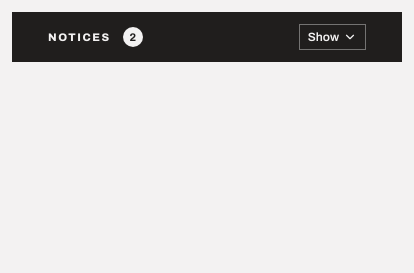
SpecialtyNoticeBoard on a phone › folds the notices behind a bar with a count, and opens and closes it
Later steps or results of the test are not shown.
Click the button "Notices 2 Show": (79, 37) x1=12 y1=12 x2=402 y2=62
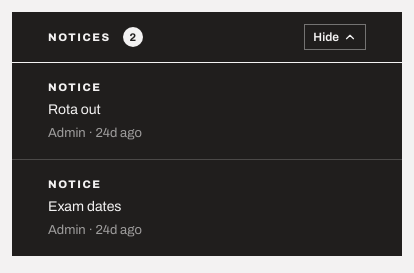
Now the button "Notices 2 Hide" is shown, box x1=12 y1=12 x2=402 y2=62
Now the button "Notices 2 Hide" is expanded, box x1=12 y1=12 x2=402 y2=62
Now the element with id "notices-sp-1" shows "Exam dates", box x1=48 y1=198 x2=122 y2=214
